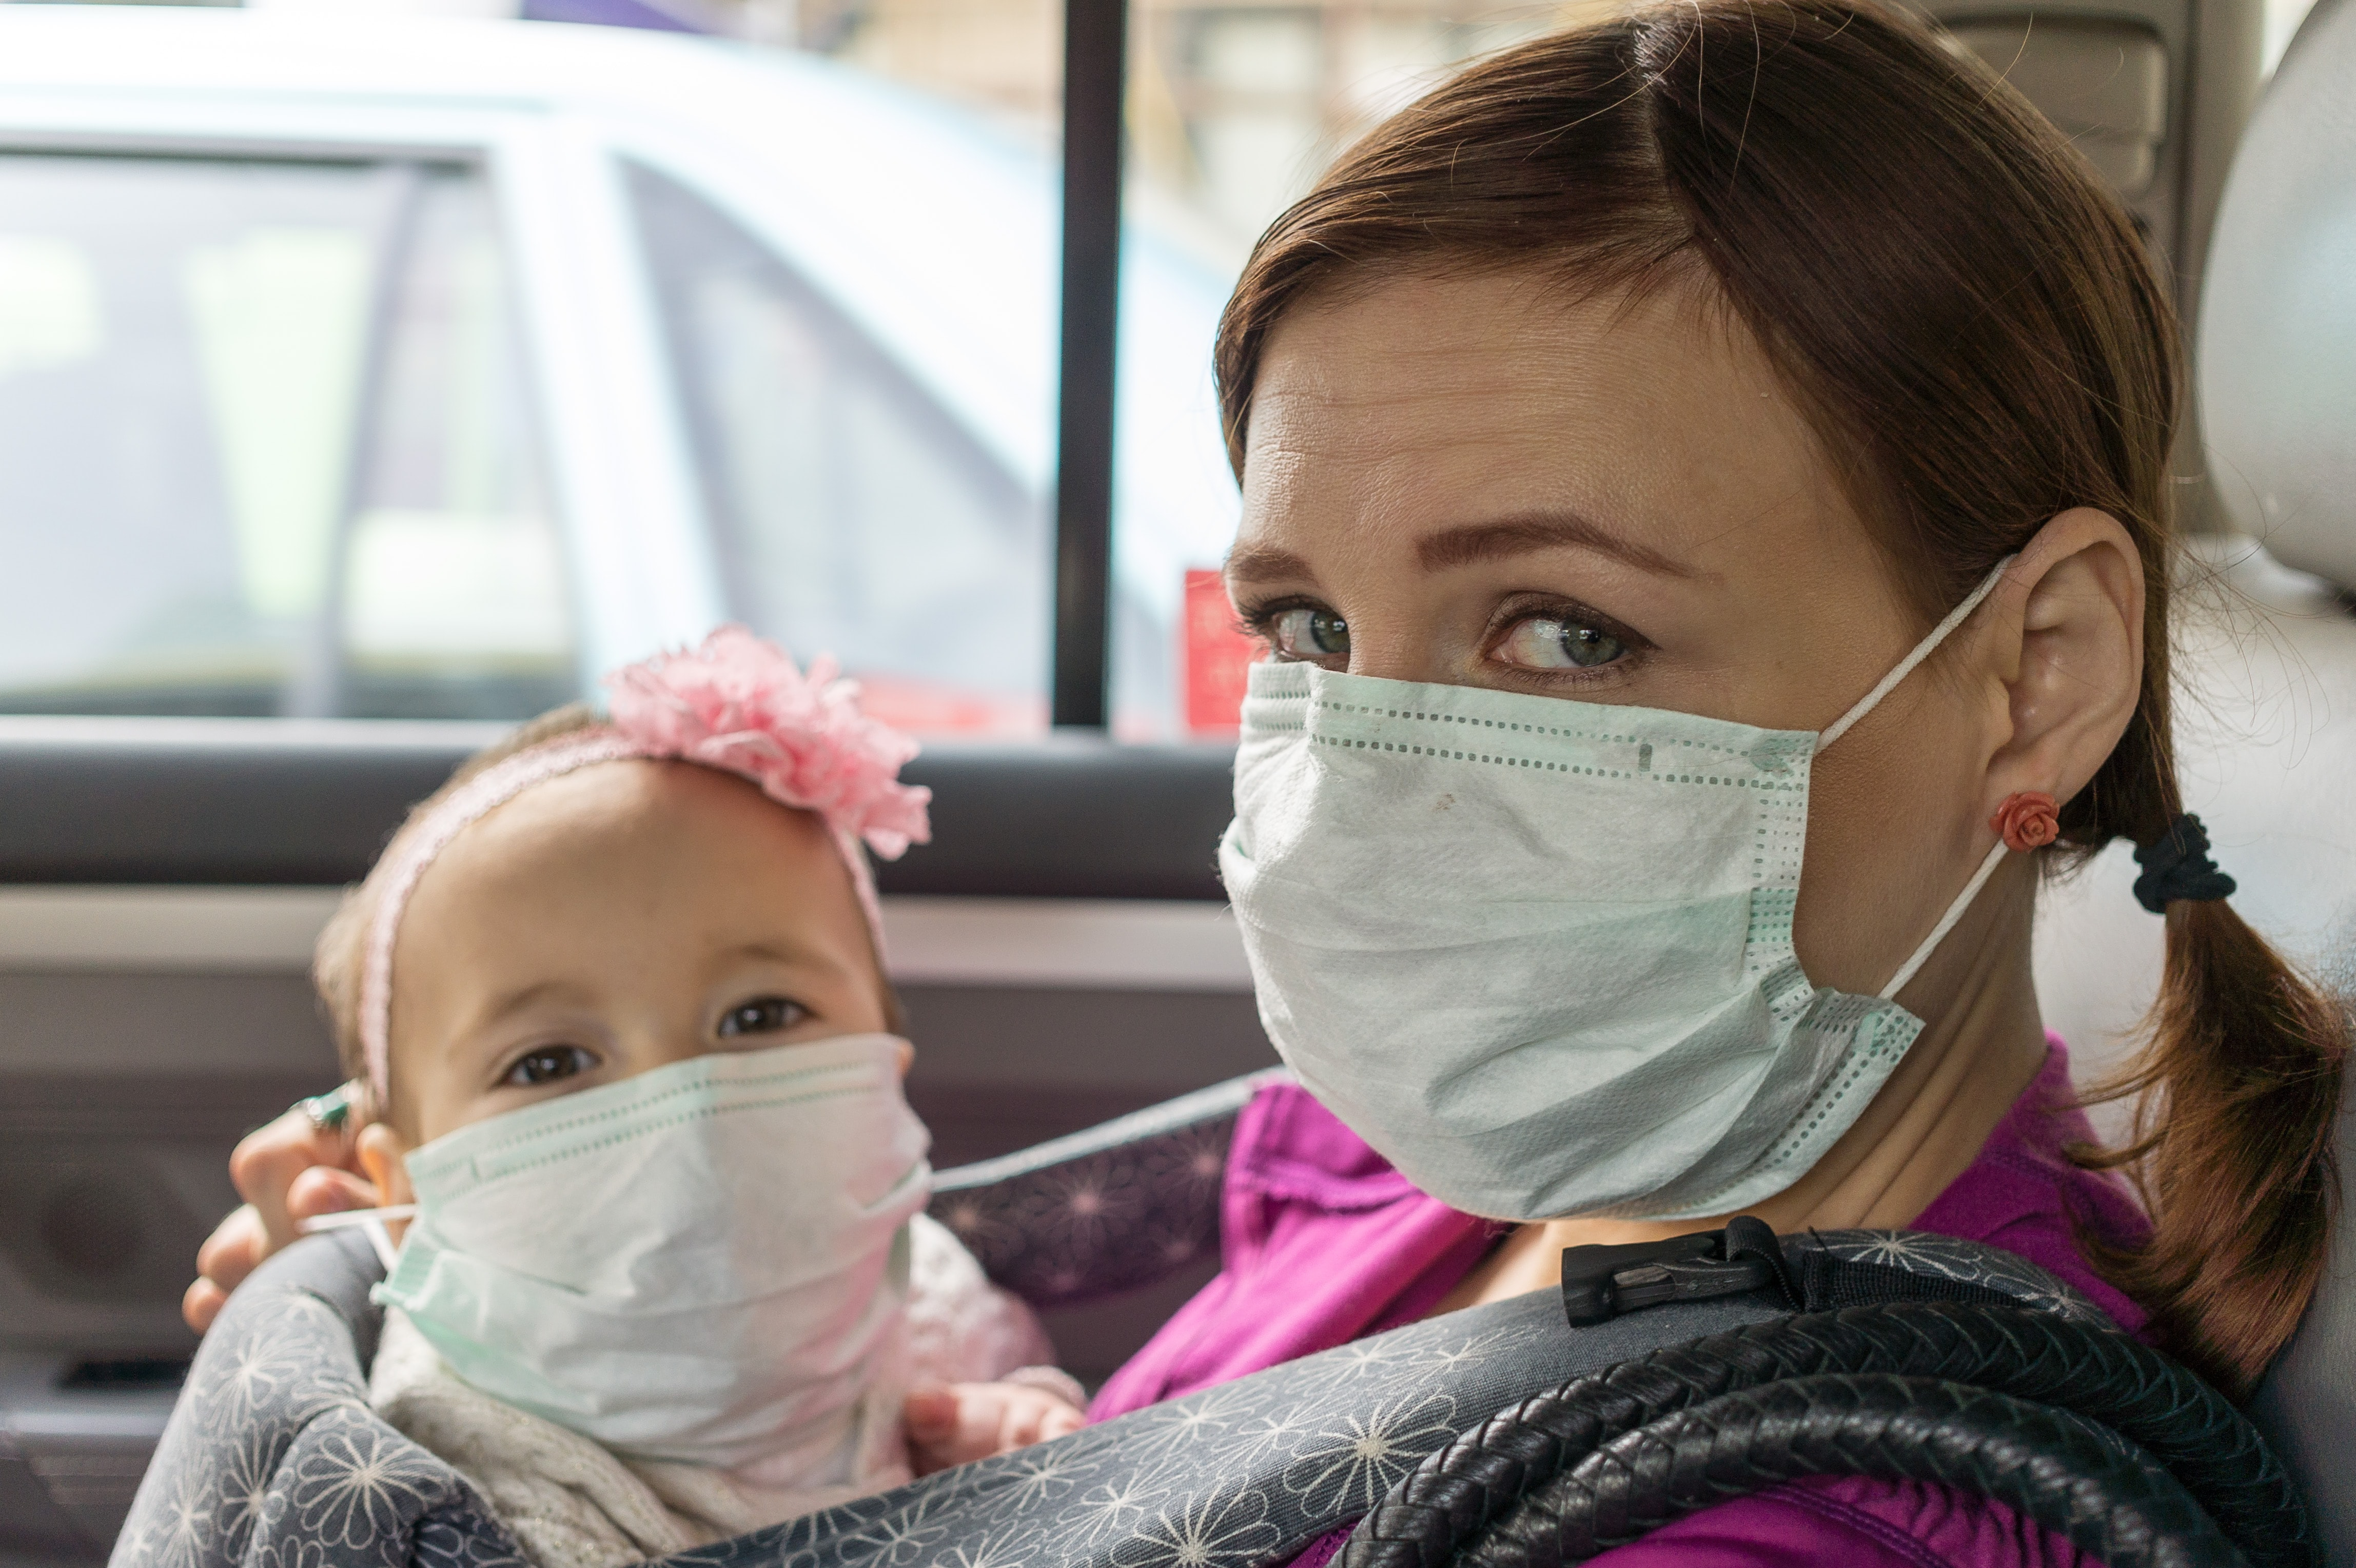mask: (1176, 668, 1903, 1229), (390, 1047, 1001, 1372)
person: (1156, 3, 2285, 1568), (252, 641, 1123, 1516)
